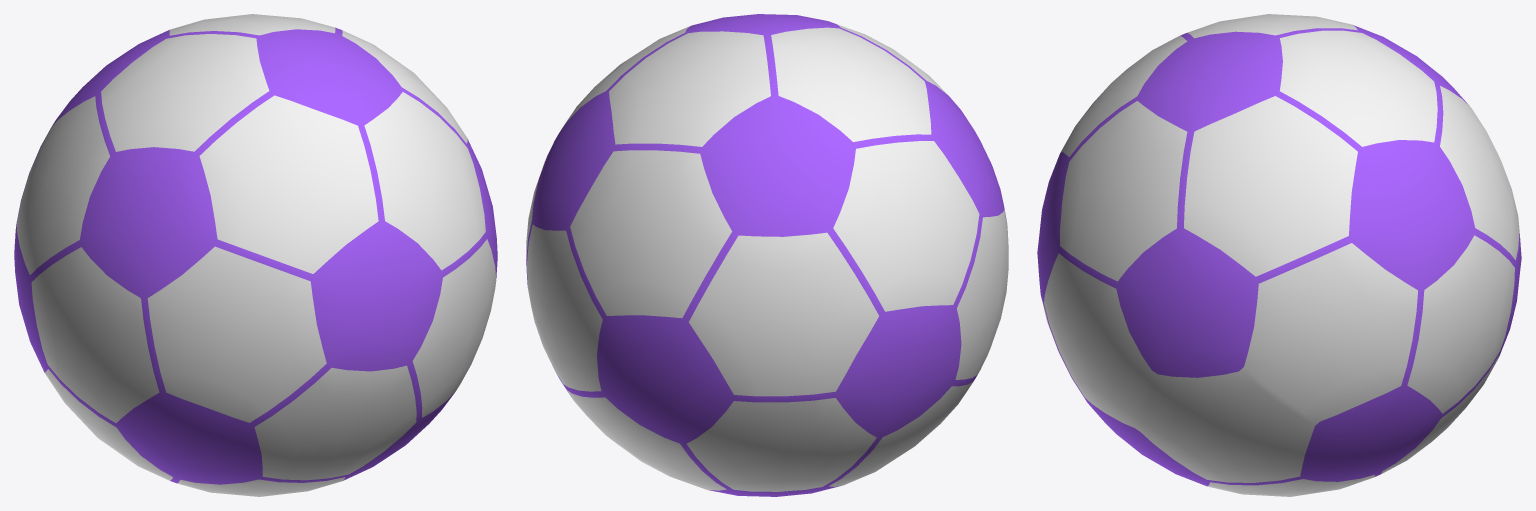
The model's file is Soccerball_Purple.fbx.
3 renders of one model, left to right at view 1: azimuth 30°, elevation 25°; view 2: azimuth 150°, elevation 25°; view 3: azimuth 270°, elevation 25°, orthographic.
Visible parts, largest first — view 1: Soccerball_Purple; view 2: Soccerball_Purple; view 3: Soccerball_Purple.
Part boxes in pixels (box(x1,y1,x2,y2)): Soccerball_Purple: box(14, 14, 497, 496); Soccerball_Purple: box(526, 14, 1008, 496); Soccerball_Purple: box(1037, 14, 1521, 496).
Bounding box in the file's own units: 92.54 × 92.53 × 92.65.
